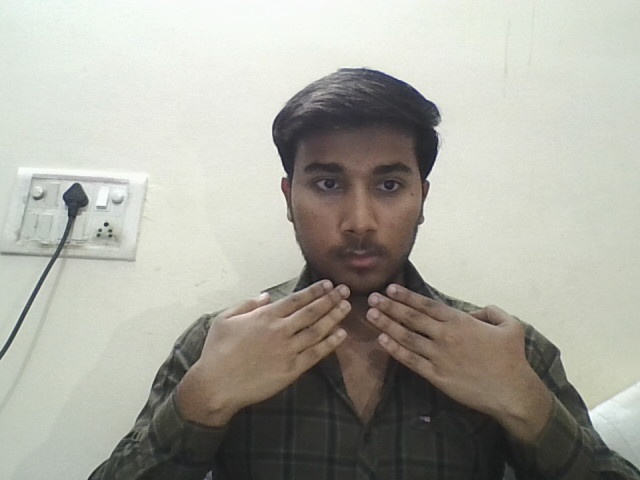thanks: (153, 254, 588, 430)
